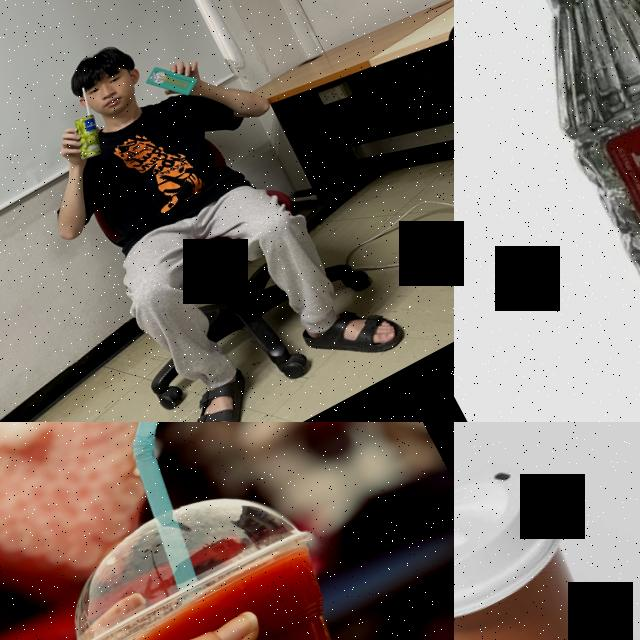bottle: (454, 0, 640, 422)
can: (62, 110, 111, 163)
cup: (18, 454, 426, 640), (454, 450, 640, 640)
